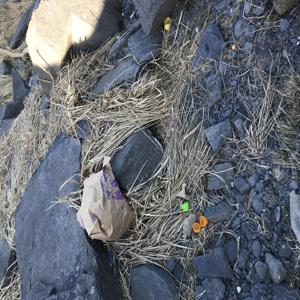paper: (74, 156, 145, 251)
plastic: (190, 215, 210, 233)
